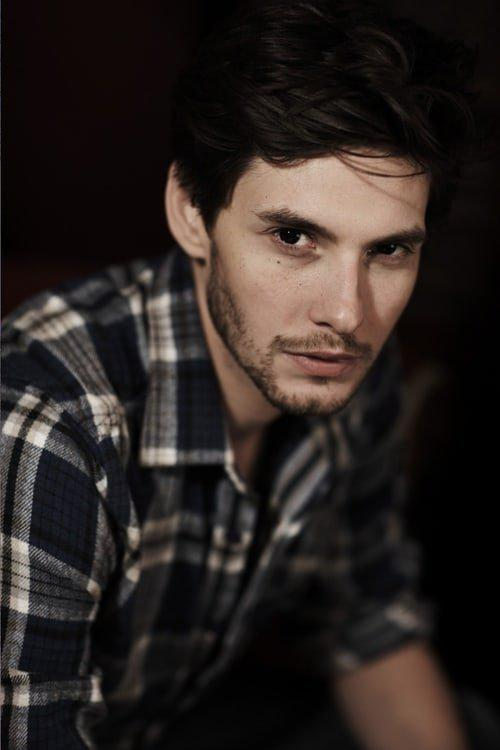Sober: (231, 154, 416, 399)
